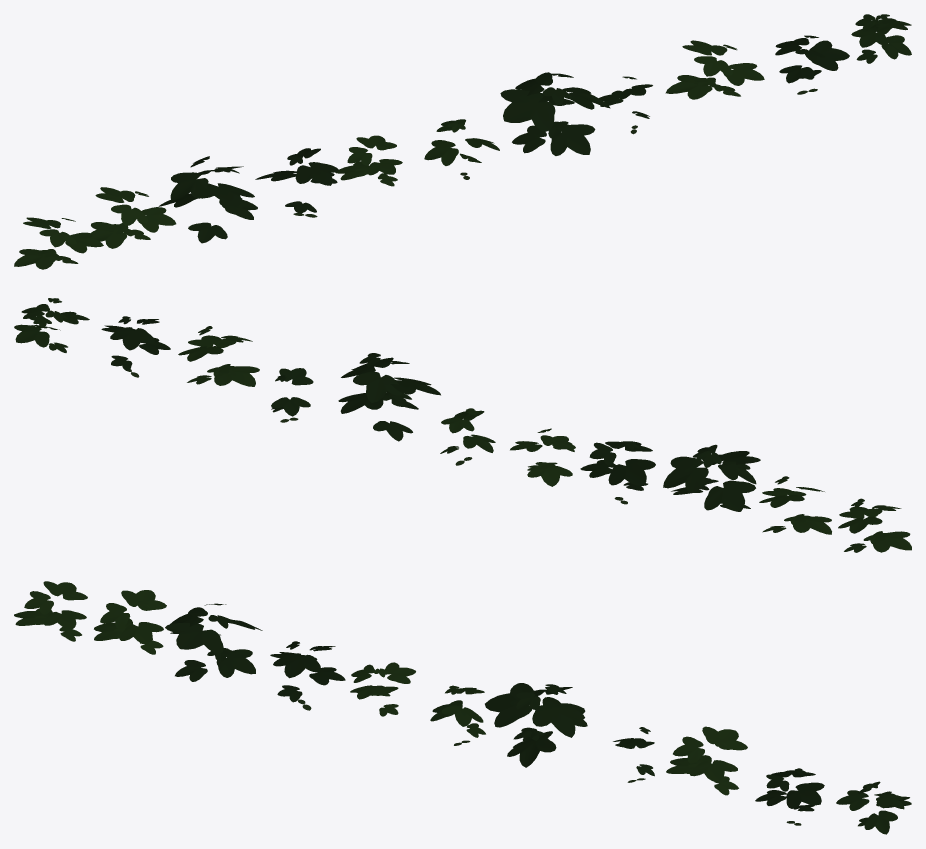
Rendered from ROW_21_SEG5_foliage.dae.
3 views of the same model, one above another, from view 1: azimuth 30°, elevation 25°; view 2: azimuth 150°, elevation 25°; view 3: azimuth 330°, elevation 25° (orthographic).
Parts seen in each view (by area): view 1: ROW_21_SEG5_foliage; view 2: ROW_21_SEG5_foliage; view 3: ROW_21_SEG5_foliage.
Part boxes in pixels (box(x1,y1,x2,y2)): ROW_21_SEG5_foliage: box(14, 14, 911, 269); ROW_21_SEG5_foliage: box(14, 298, 911, 552); ROW_21_SEG5_foliage: box(14, 581, 911, 834).
Size of the model in its own units: 3.29 by 0.3468 by 0.2912.
